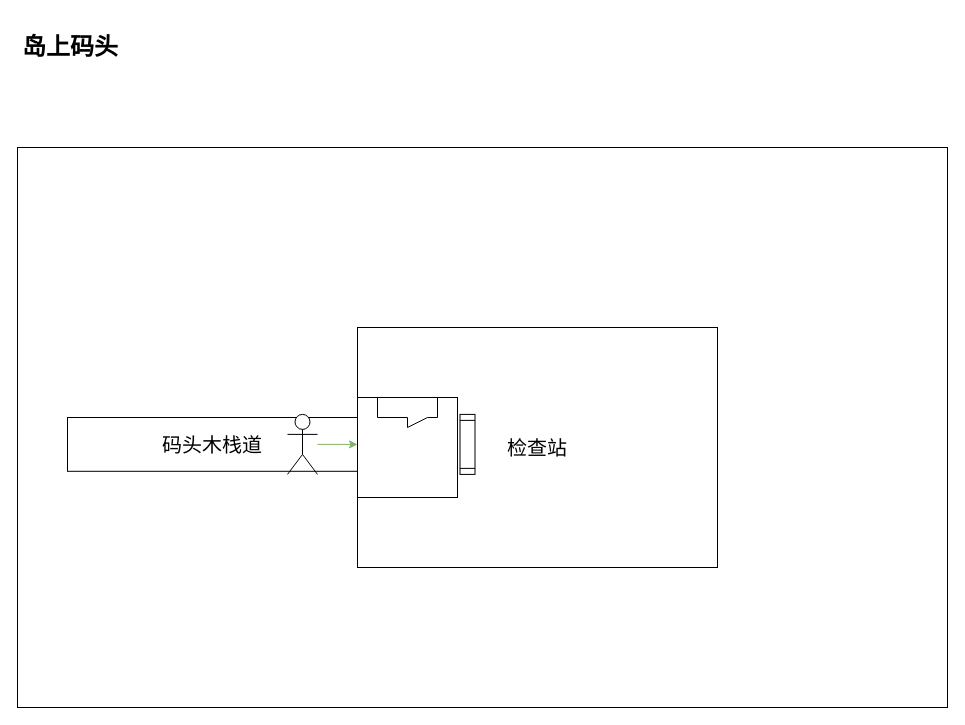
This 965x725 diagram has some shape labels left out. Here are the shapes that lost their labels. From the top down, the centre of each, then its label:
[407,412]: 通缉牌
[467,443]: 铁门
